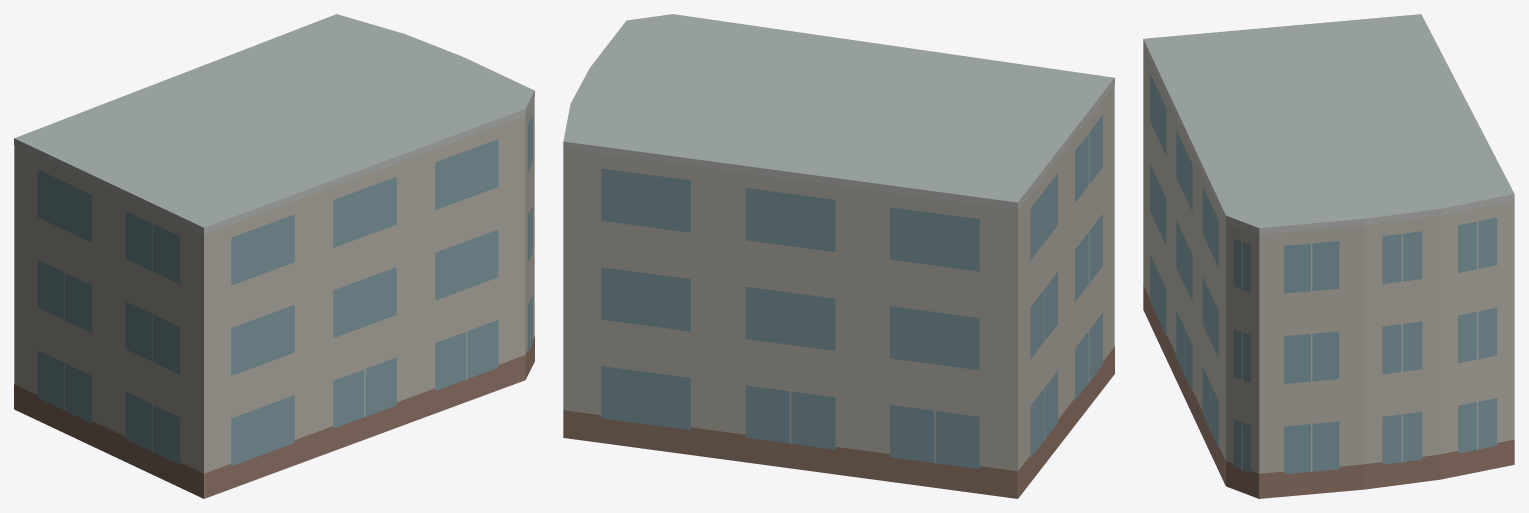
File: survey-upis-32640828.glb
The picture shows the model from 3 angles, left to right: view 1: azimuth 30°, elevation 25°; view 2: azimuth 150°, elevation 25°; view 3: azimuth 270°, elevation 25°; orthographic projection. The views are drawn at different scales.
Visible parts, largest first — view 1: survey-upis-32640828.tmp; view 2: survey-upis-32640828.tmp; view 3: survey-upis-32640828.tmp.
Boxes of the visible parts, x1,y1,x2,y2 form: survey-upis-32640828.tmp: (14, 14, 534, 498); survey-upis-32640828.tmp: (563, 14, 1114, 498); survey-upis-32640828.tmp: (1143, 14, 1514, 498).
Size of the model in its own units: 17.14 by 10.1 by 12.56.
